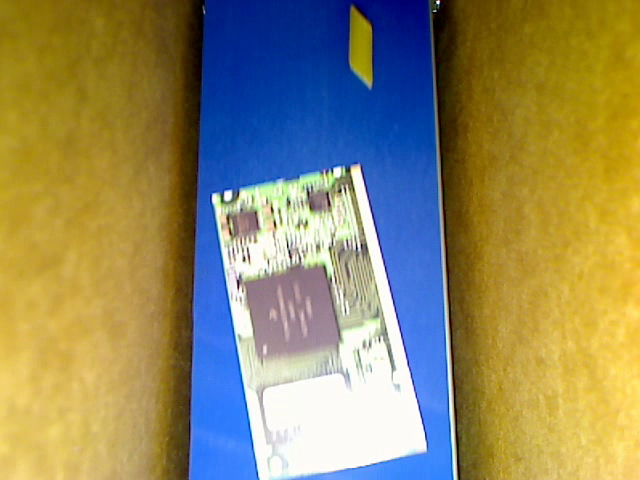penne: (349, 6, 372, 91)
